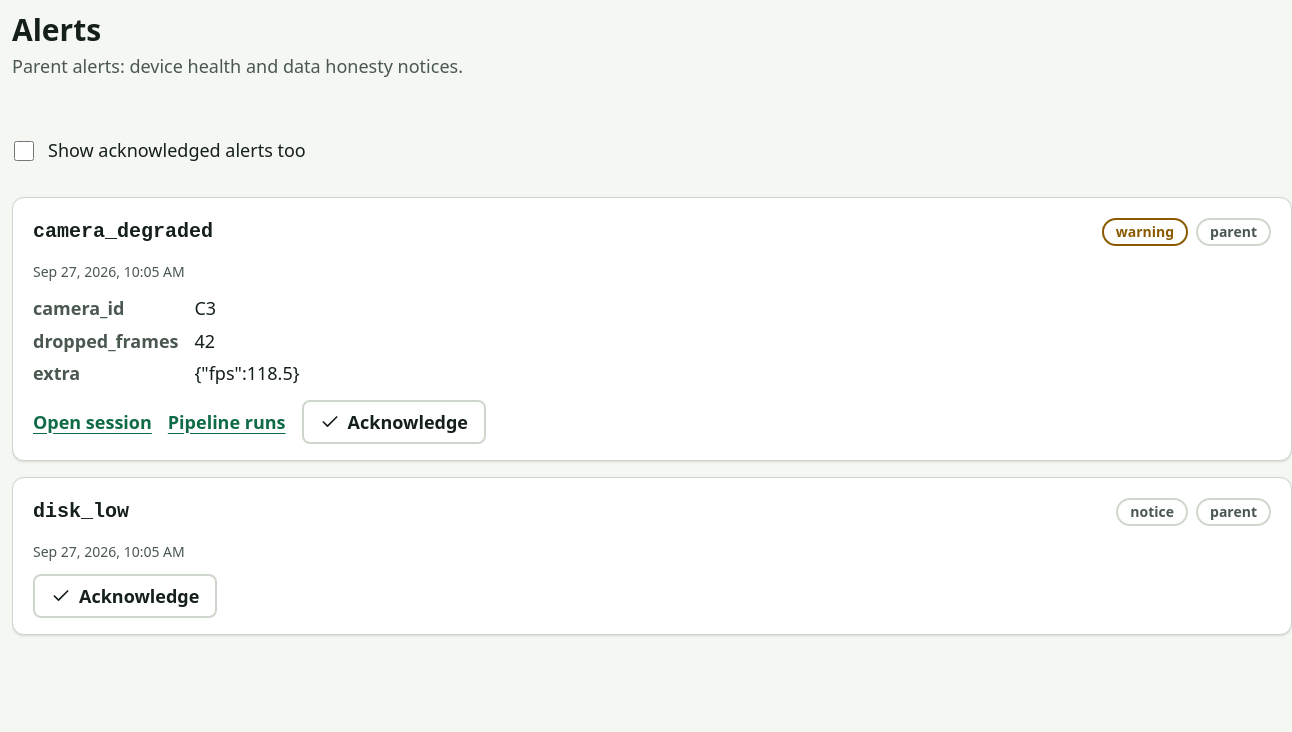
Test: acknowledgement › stringifies non-Error failures
Click the button "Acknowledge" next to "Pipeline runs" at (394, 422), box [302, 400, 486, 444]
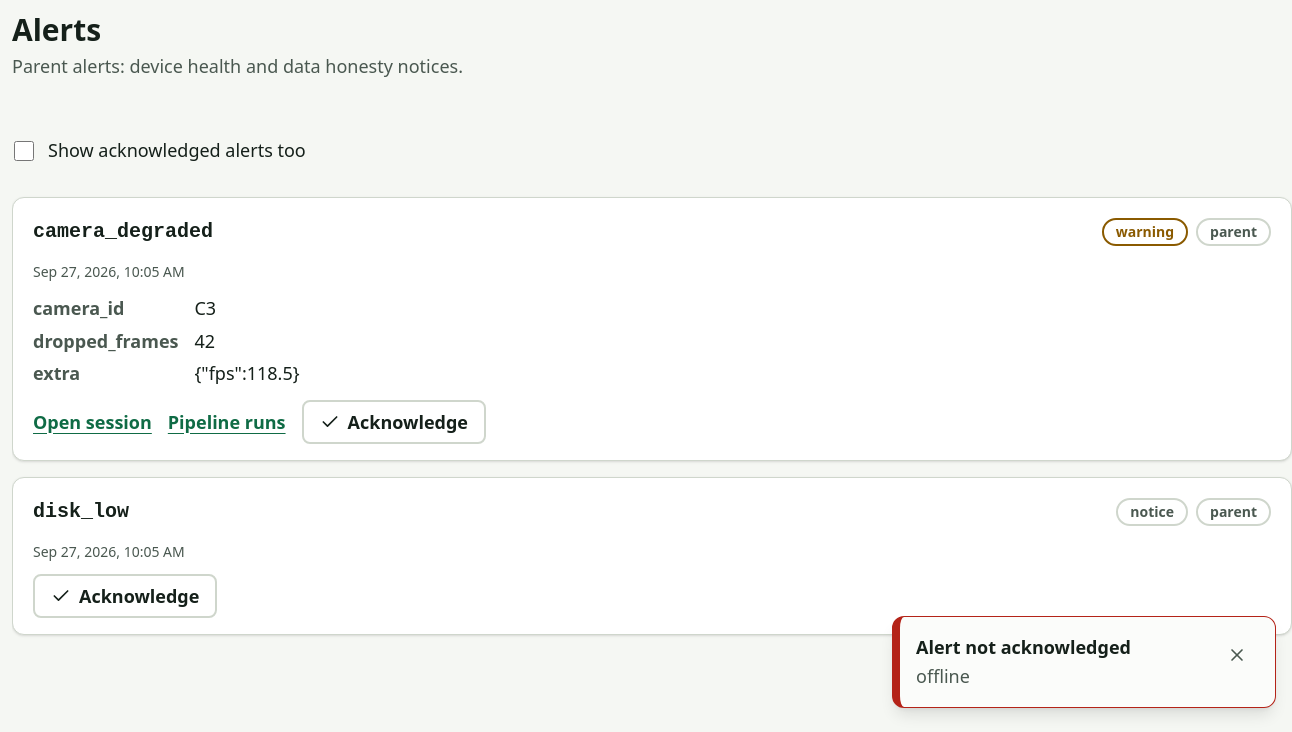
Result: the text "offline" is shown at [916, 664, 970, 688]
